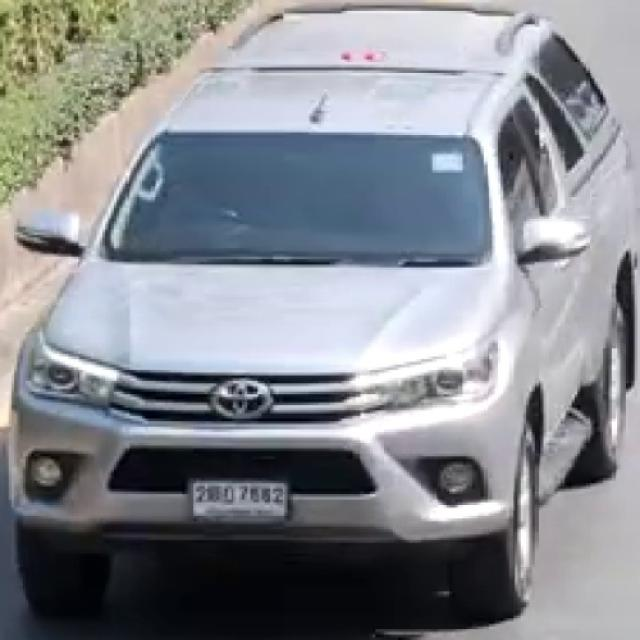plate: (192, 480, 290, 519)
